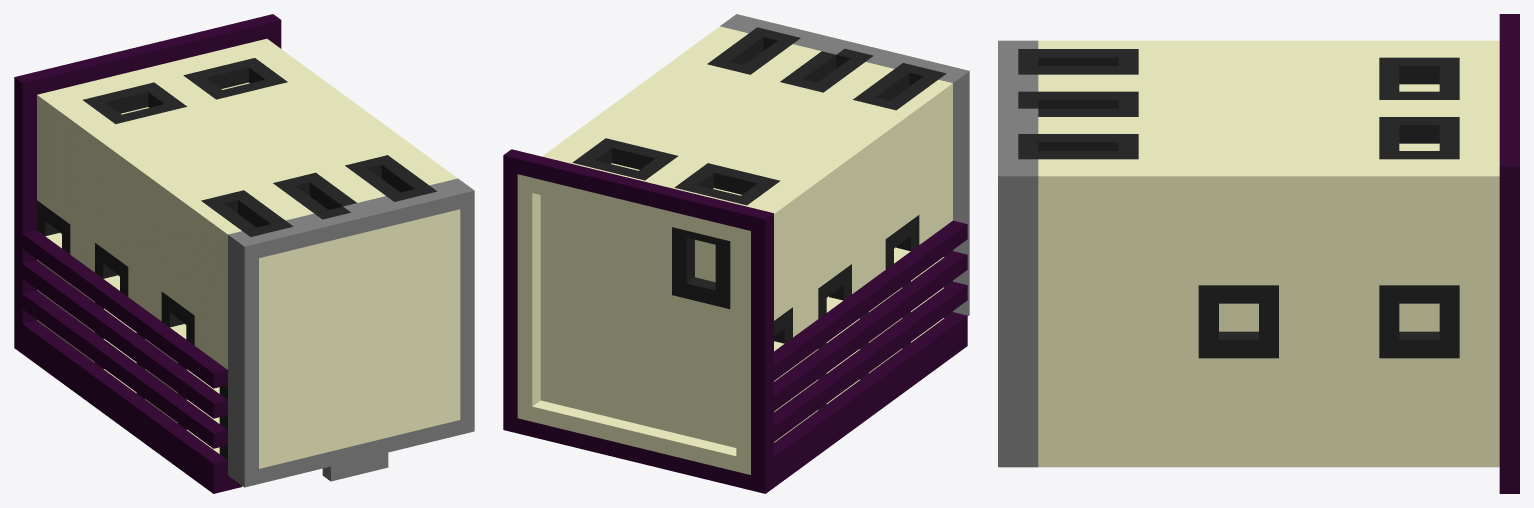
File: yoshida1.fbx
3 views of the same model, side by side, from view 1: azimuth 30°, elevation 25°; view 2: azimuth 150°, elevation 25°; view 3: azimuth 270°, elevation 25° (orthographic). The views are drawn at different scales.
Parts seen in each view (by area): view 1: Default; view 2: Default; view 3: Default.
Part boxes in pixels (x1,y1,x2,y2): Default: [14, 14, 474, 493]; Default: [503, 14, 969, 493]; Default: [998, 14, 1519, 493].
Bounding box in the file's own units: 18 × 18 × 26.
1 material, 1 textured.
